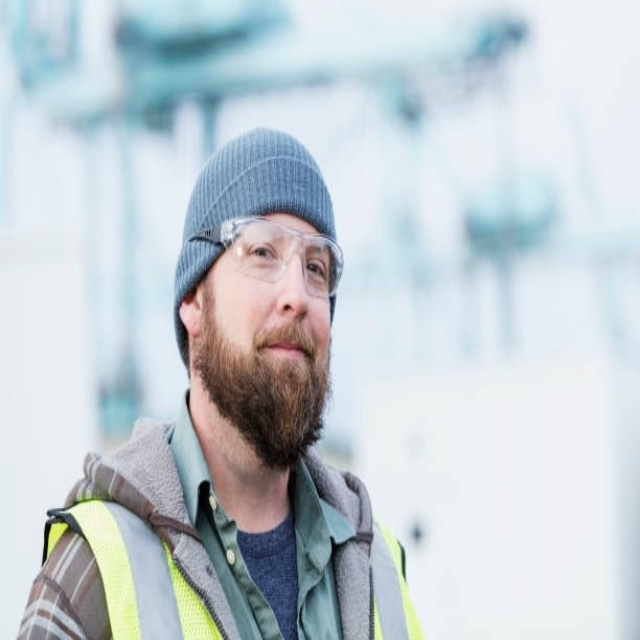Gafas: (191, 217, 345, 298)
Sin_mascara: (253, 322, 320, 398)
